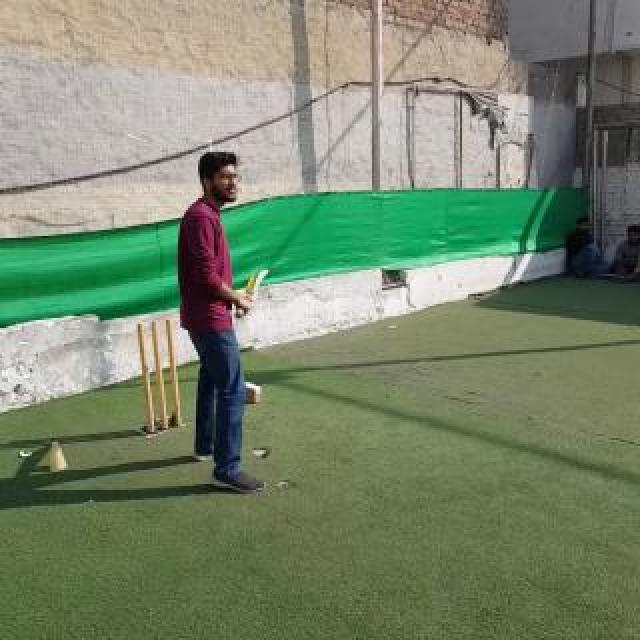bat: (234, 270, 268, 320)
